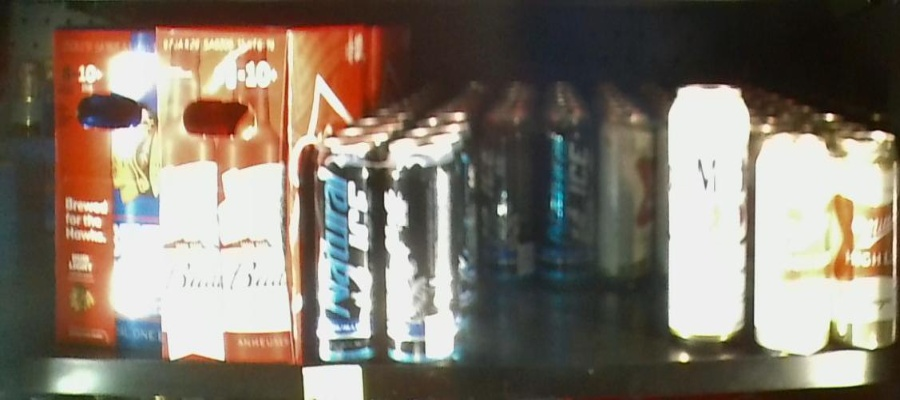bottle: (50, 28, 309, 366), (309, 139, 461, 355), (759, 138, 895, 355), (667, 89, 745, 336), (479, 115, 595, 278), (598, 120, 650, 279)
